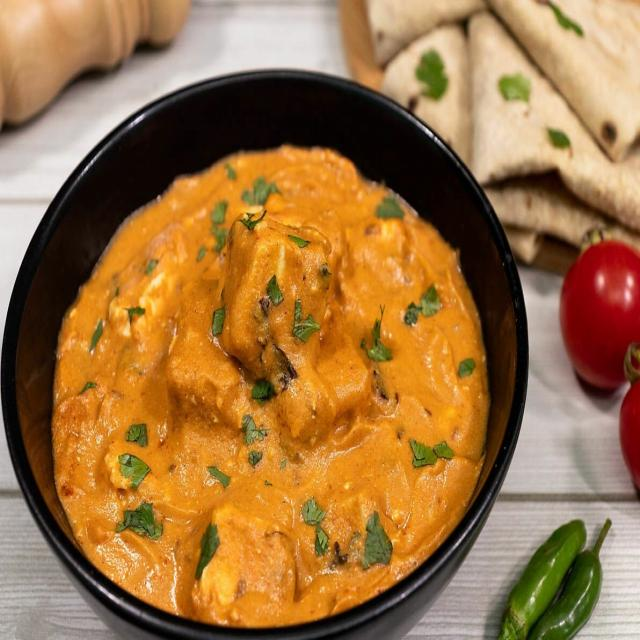ShahiPaneer: (55, 146, 491, 627)
